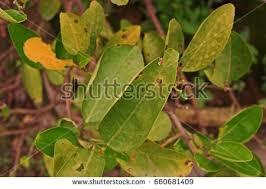Diseased_Leaves: (128, 150, 196, 175), (21, 36, 64, 69), (192, 17, 214, 64), (129, 66, 166, 90), (64, 156, 96, 173)
